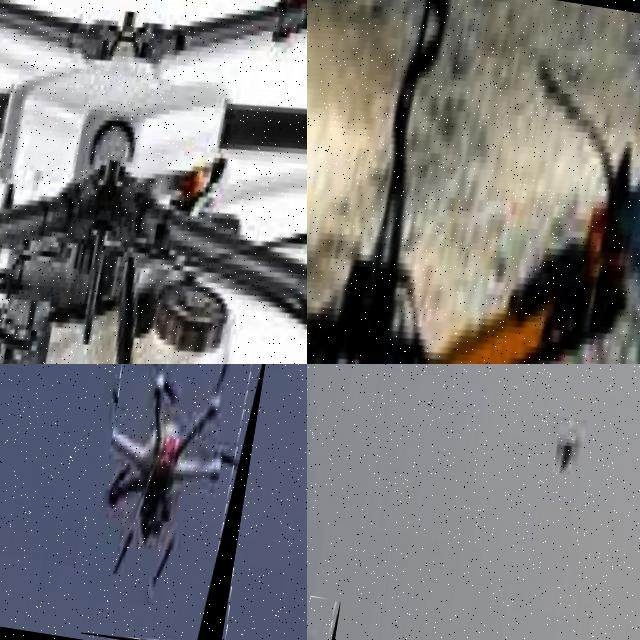drone: (307, 0, 640, 364), (0, 0, 307, 364), (81, 364, 271, 640)
